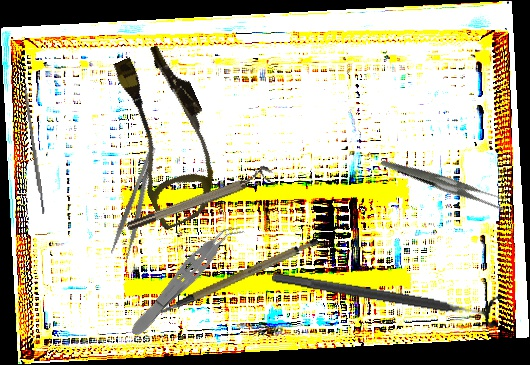Cannula: (93, 38, 242, 232)
Dressing Forceps: (379, 125, 511, 240), (108, 145, 168, 260)
Fixation Ring: (269, 259, 504, 331), (122, 163, 277, 234)
Scalpel Handle: (152, 235, 326, 314), (22, 86, 46, 215)
Tissue Forceps: (125, 215, 245, 343)
